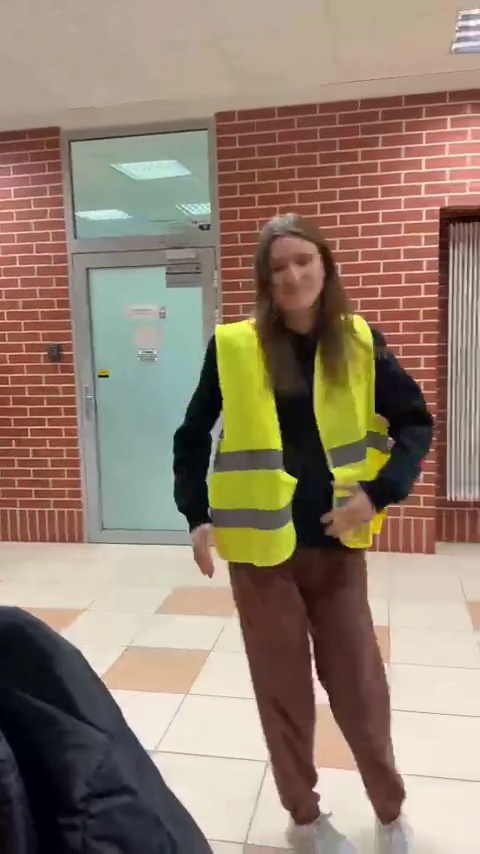vest: (166, 211, 432, 840)
